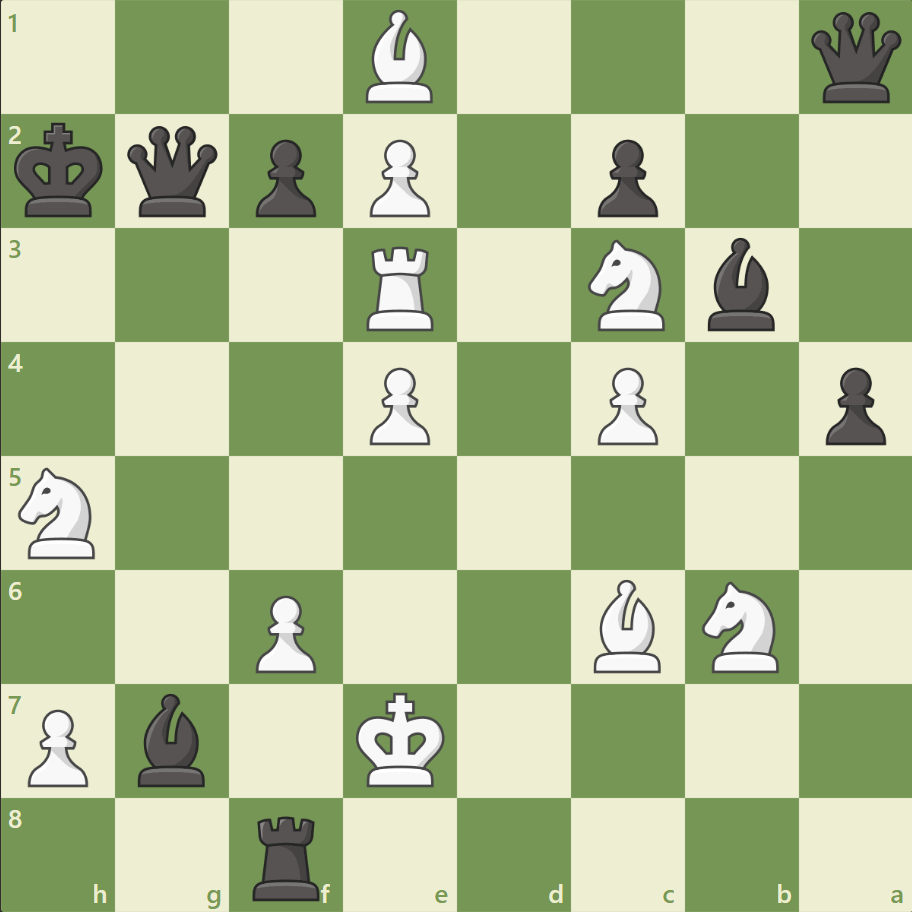B: (358, 6, 442, 109), (585, 574, 669, 676)
K: (351, 685, 451, 793)
N: (11, 461, 108, 564), (579, 234, 676, 337), (692, 575, 789, 677)
P: (20, 700, 95, 791), (247, 586, 322, 677), (588, 359, 662, 450), (361, 359, 435, 450), (361, 132, 435, 223)
R: (360, 239, 442, 336)
b: (131, 687, 215, 790), (698, 233, 782, 336)
k: (11, 117, 111, 225)
p: (247, 132, 322, 223), (815, 359, 889, 450), (588, 132, 662, 223)
q: (124, 122, 223, 222), (805, 9, 904, 108)
r: (246, 806, 329, 904)
